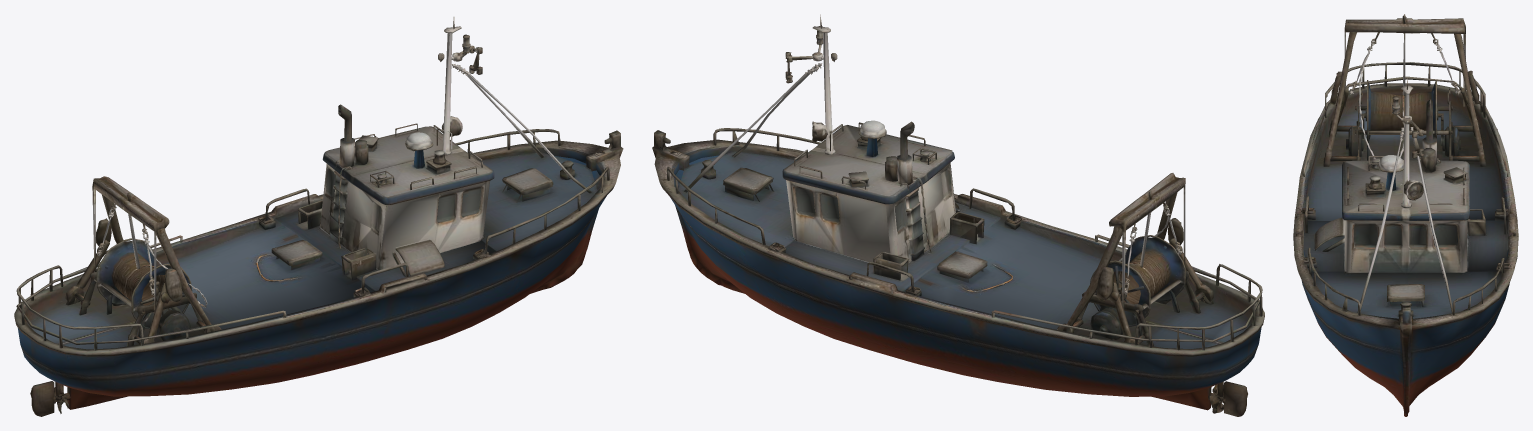
The model's file is trawler.glb.
3 views of the same model, side by side, from view 1: azimuth 30°, elevation 25°; view 2: azimuth 150°, elevation 25°; view 3: azimuth 270°, elevation 25° (orthographic).
Visible parts, largest first — view 1: tripo_node_a9fd4133-2171-4492-86a9-b8b52e22de10; view 2: tripo_node_a9fd4133-2171-4492-86a9-b8b52e22de10; view 3: tripo_node_a9fd4133-2171-4492-86a9-b8b52e22de10.
Part boxes in pixels (x1=…): tripo_node_a9fd4133-2171-4492-86a9-b8b52e22de10: x1=14, y1=17, x2=623, y2=416; tripo_node_a9fd4133-2171-4492-86a9-b8b52e22de10: x1=652, y1=14, x2=1264, y2=416; tripo_node_a9fd4133-2171-4492-86a9-b8b52e22de10: x1=1293, y1=14, x2=1518, y2=416.
Bounding box in the file's own units: 0.998 × 0.4863 × 0.334.
1 material, 1 textured.
